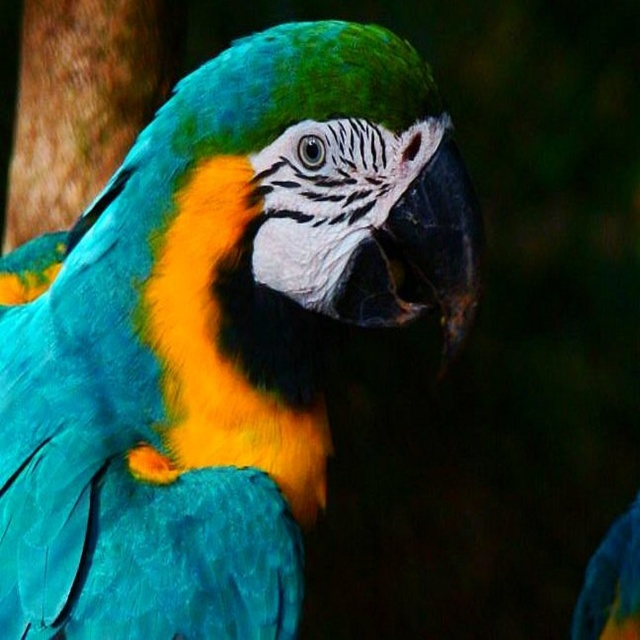Parrot: (0, 17, 485, 639), (573, 496, 639, 639)
